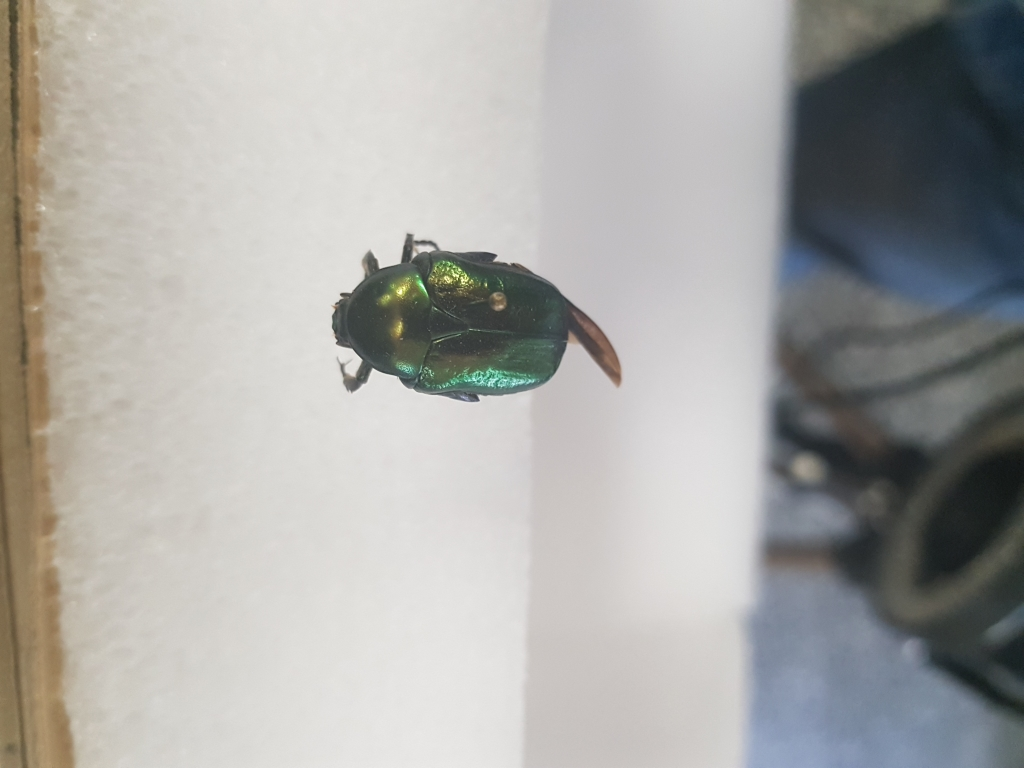Protaetia_angustata_angustata: (319, 225, 628, 413)
